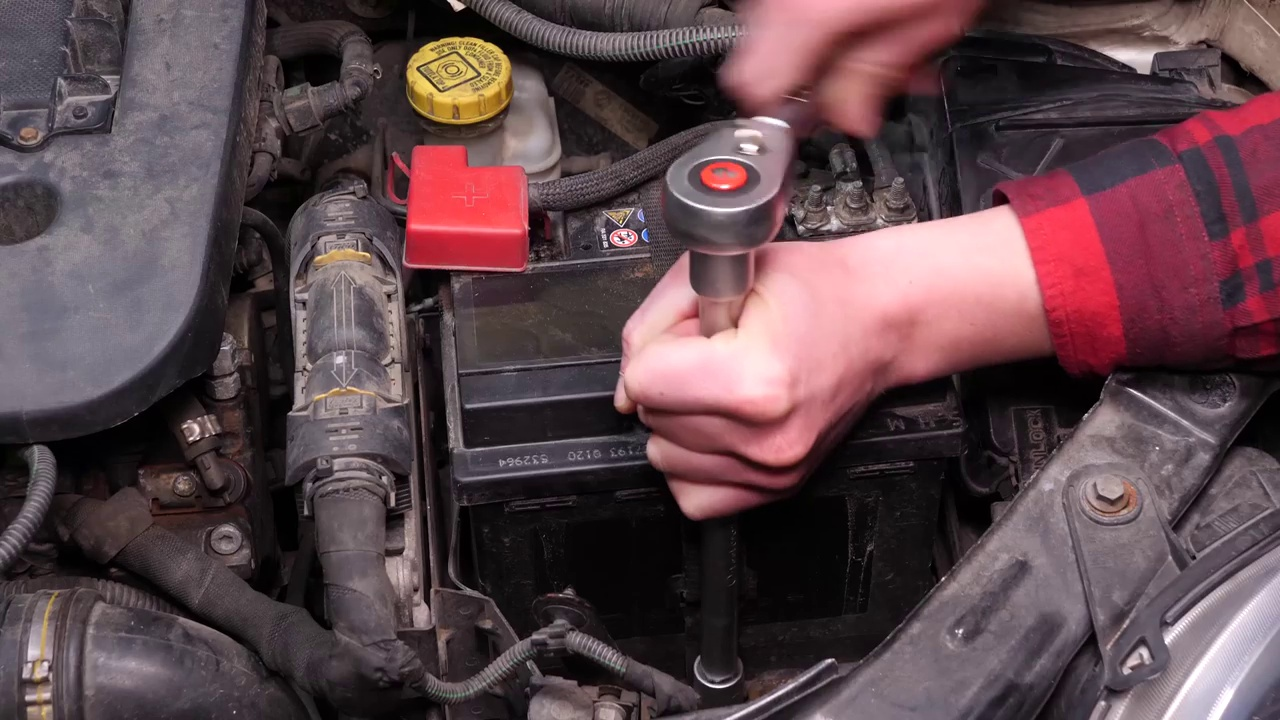battery: (384, 146, 976, 489)
pos_connected: (401, 109, 578, 289)
